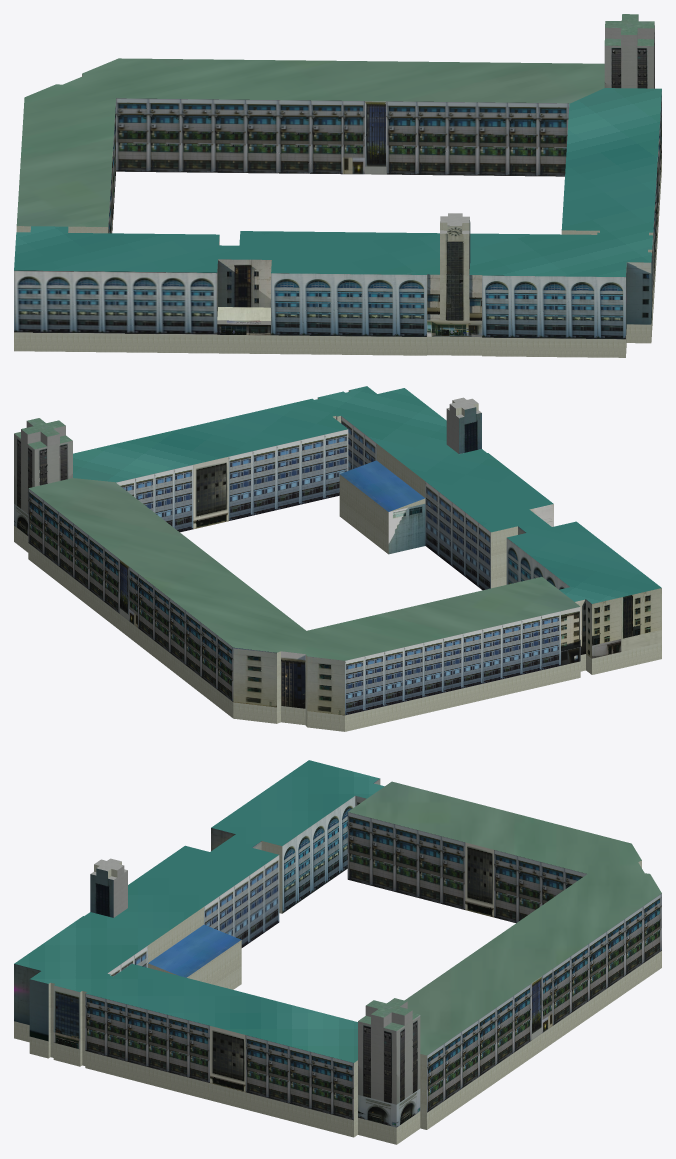
The picture shows the model from 3 angles, top to bottom: view 1: azimuth 30°, elevation 25°; view 2: azimuth 150°, elevation 25°; view 3: azimuth 270°, elevation 25°; orthographic projection. The views are drawn at different scales.
Parts seen in each view (by area): view 1: SketchUp (×20); view 2: SketchUp (×29); view 3: SketchUp (×25).
Boxes of the visible parts, x1,y1,x2,y2 form: SketchUp (×20): [14, 14, 661, 357]; SketchUp (×29): [14, 386, 661, 731]; SketchUp (×25): [14, 760, 661, 1144].
Size of the model in its own units: 7619 by 6726 by 1418.
Materials: 48 (46 with a texture image).
